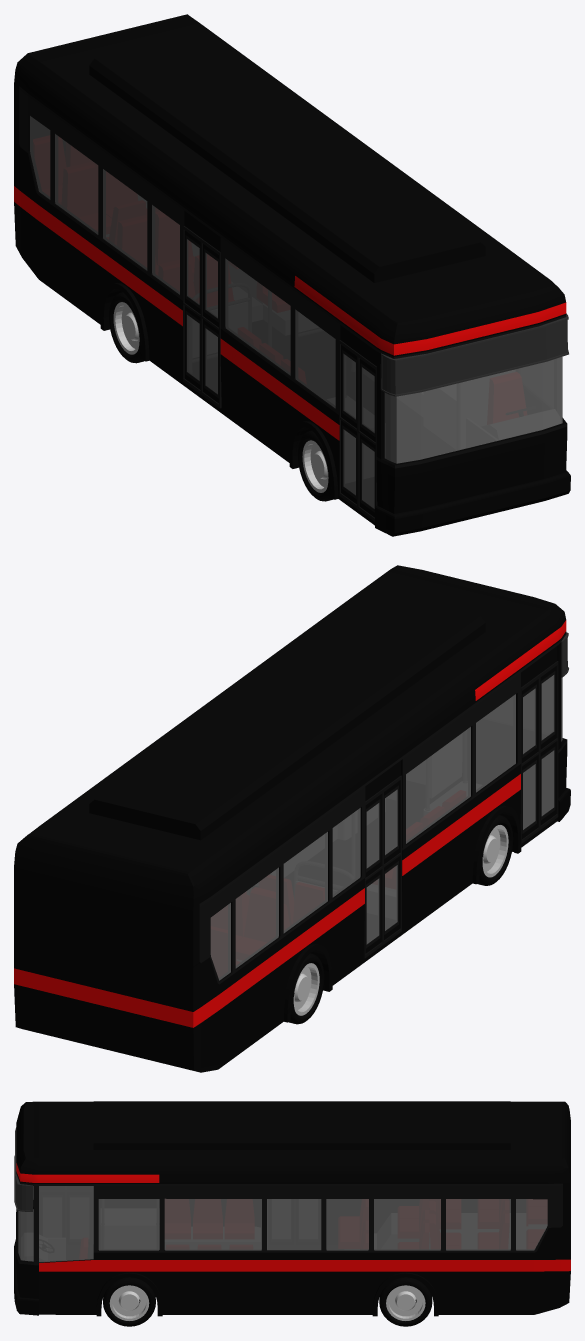
Rendered from YS_Bus.glb.
The picture shows the model from 3 angles, top to bottom: view 1: azimuth 30°, elevation 25°; view 2: azimuth 150°, elevation 25°; view 3: azimuth 270°, elevation 25°; orthographic projection. The views are drawn at different scales.
Visible parts, largest first — view 1: Cube.002_0, Cube.003_2, Cube.001_1; view 2: Cube.002_0, Cube.001_1, Cube.003_2; view 3: Cube.002_0.
Part boxes in pixels (<box>): Cube.002_0: <box>14,14,570,536</box>; Cube.003_2: <box>183,211,221,408</box>; Cube.001_1: <box>339,325,377,521</box>; Cube.002_0: <box>14,565,570,1072</box>; Cube.001_1: <box>520,646,558,843</box>; Cube.003_2: <box>363,760,401,958</box>; Cube.002_0: <box>14,1101,570,1326</box>.
Bounding box in the file's own units: 6.21 × 7.59 × 21.74.
